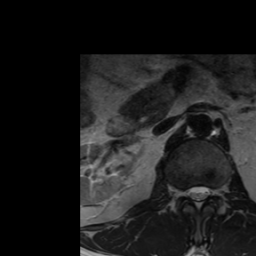CCS_normal: (194, 179, 201, 216)
LFS_normal: (210, 183, 217, 201)
LLS_normal: (201, 181, 209, 205)
RFS_stenosis: (179, 183, 187, 202)
RLS_normal: (187, 182, 194, 204)
